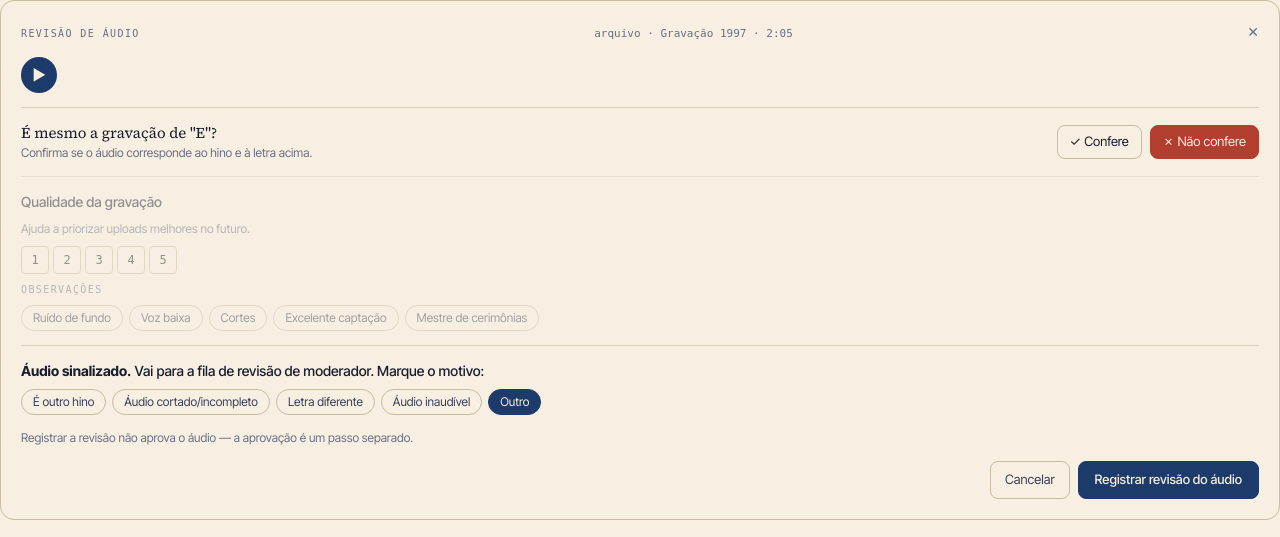
Test: AudioReviewDrawer — 5C.14 (divergência) › voltar para `Confere` esconde o motivo de novo
Expected: the element with test id "mismatch-block" is shown, [21,345,1259,415]
What coordinates should you click on to do the following:
click the button with test id "audio-match-yes"
I would click on:
 (1099, 142)
Its box is [1057,125,1142,158].
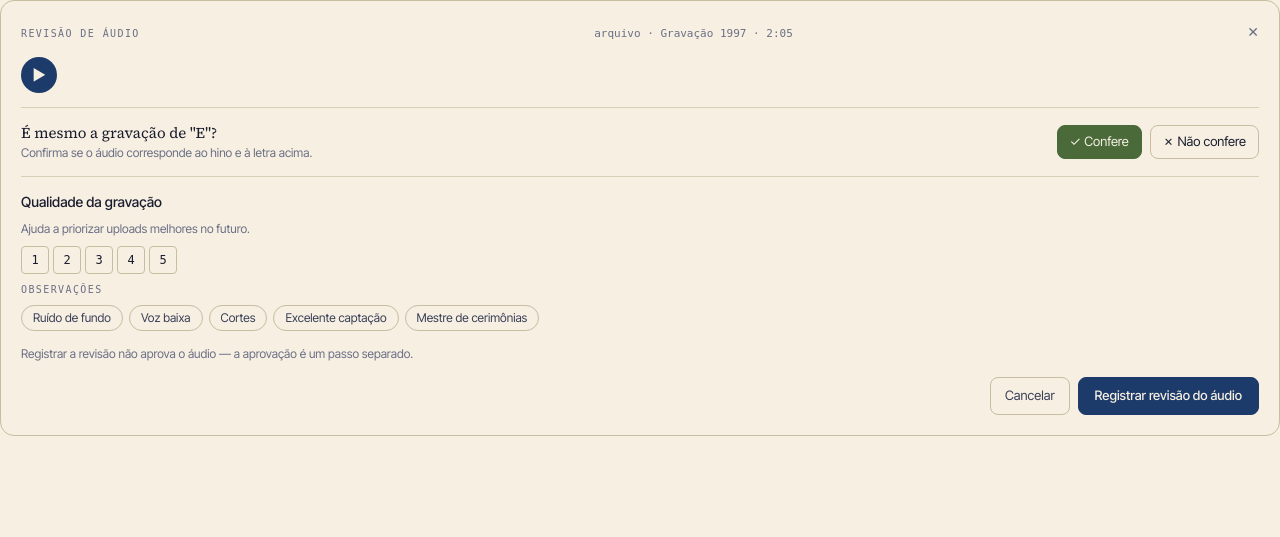
Expected: the element with test id "mismatch-block" is gone
